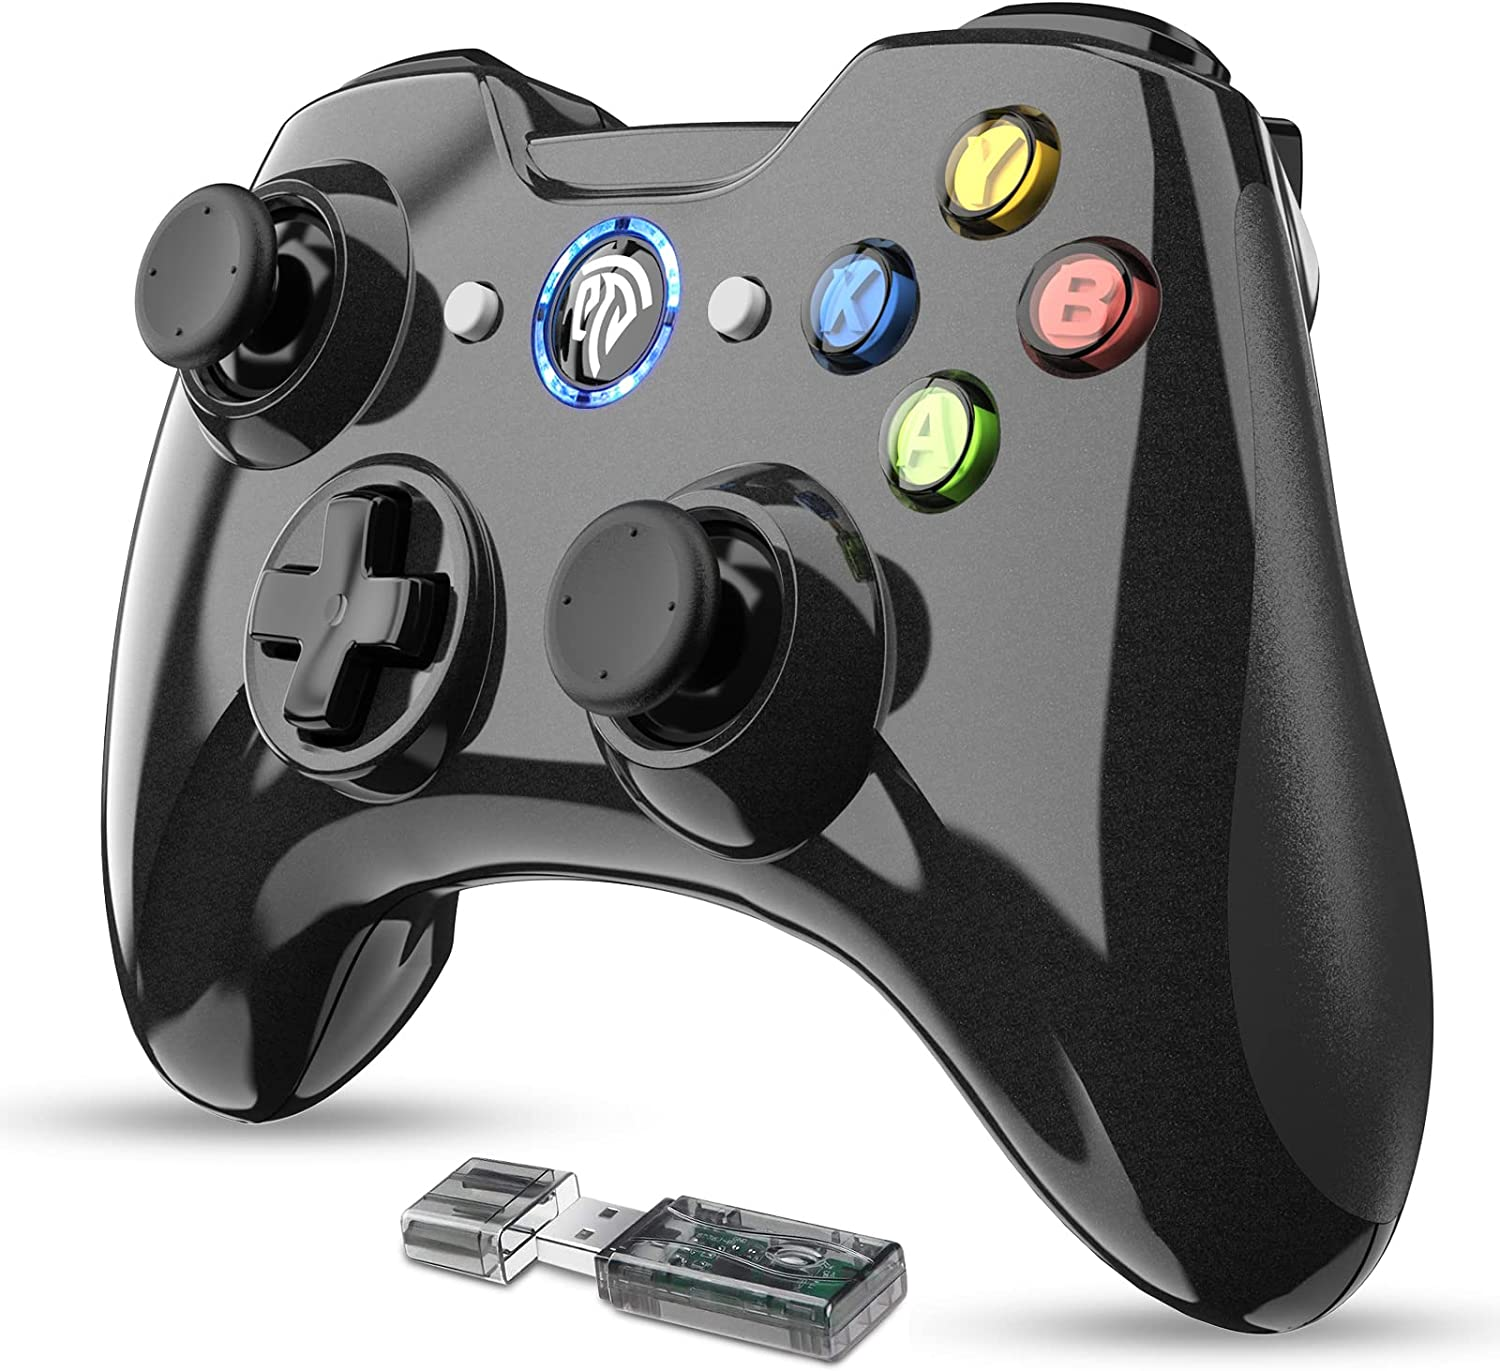controller: (103, 3, 1436, 1334)
